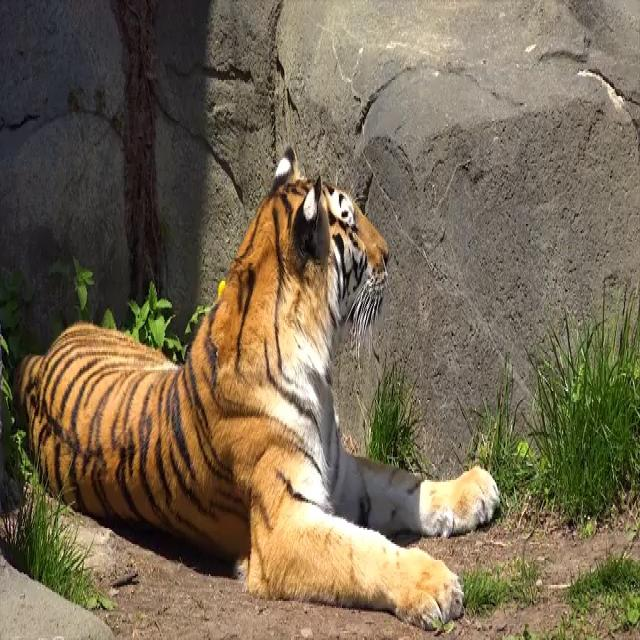tiger: (9, 144, 499, 640)
